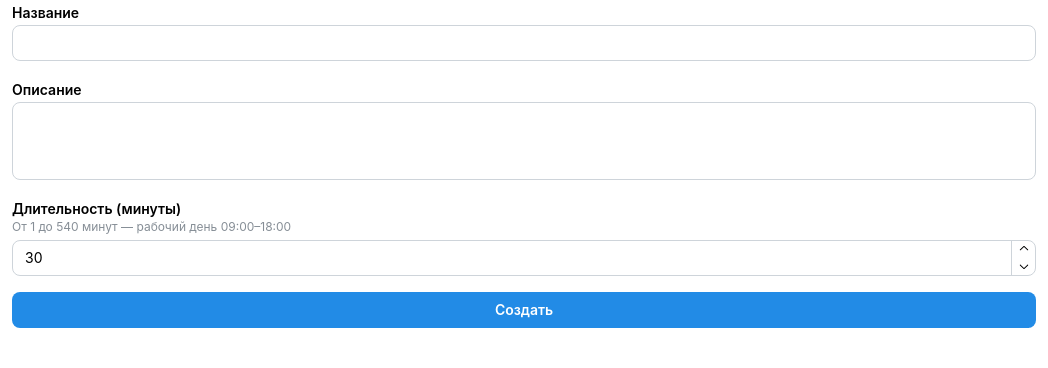
CreateEventType › shows an error when the duration is empty
Type "Консультация" into the field labelled "Название".
click(524, 43); type("Консультация")  # box [12,25,1036,61]
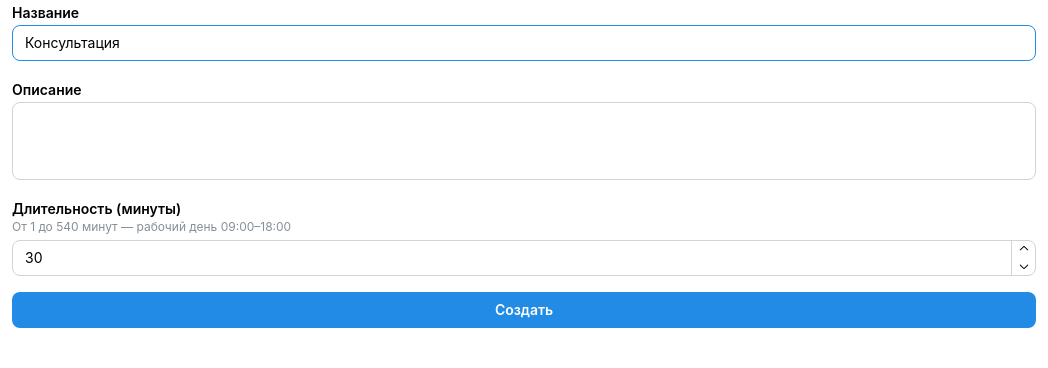
Clear the field labelled "Длительность (минуты)" at (524, 258), box [12,240,1036,276]
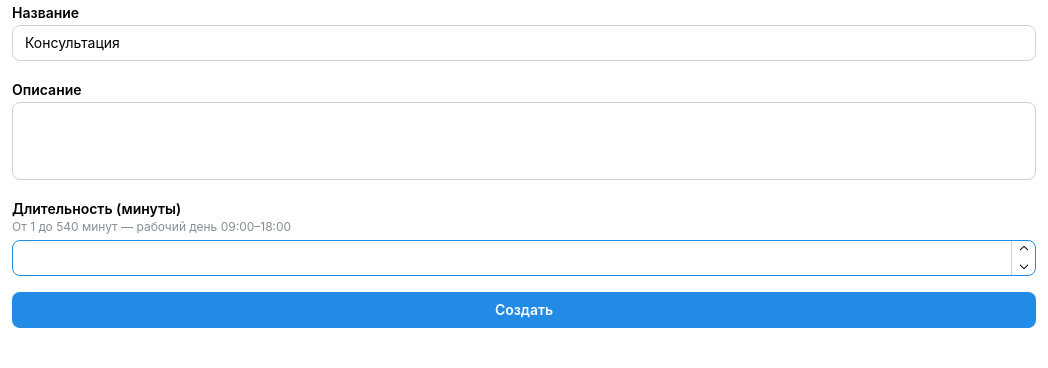
Click the button "Создать".
click(524, 310)  # box [12,292,1036,328]
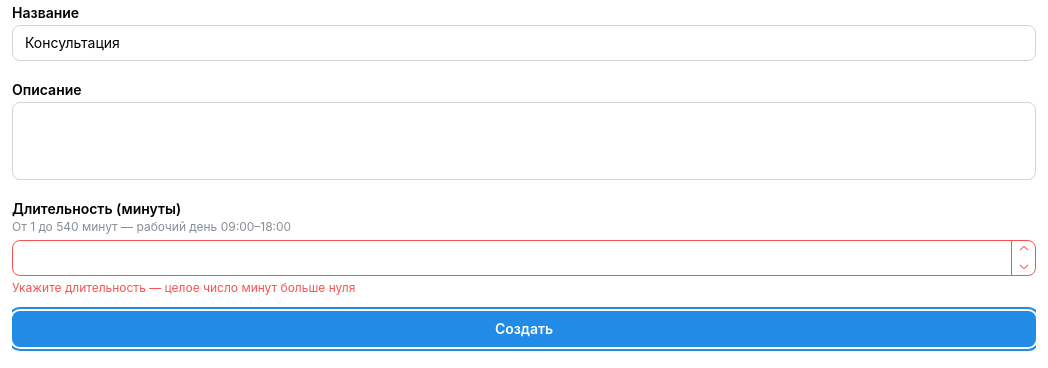
Check: the text "Укажите длительность — целое число минут больше нуля" is shown, box [12,280,355,295]
